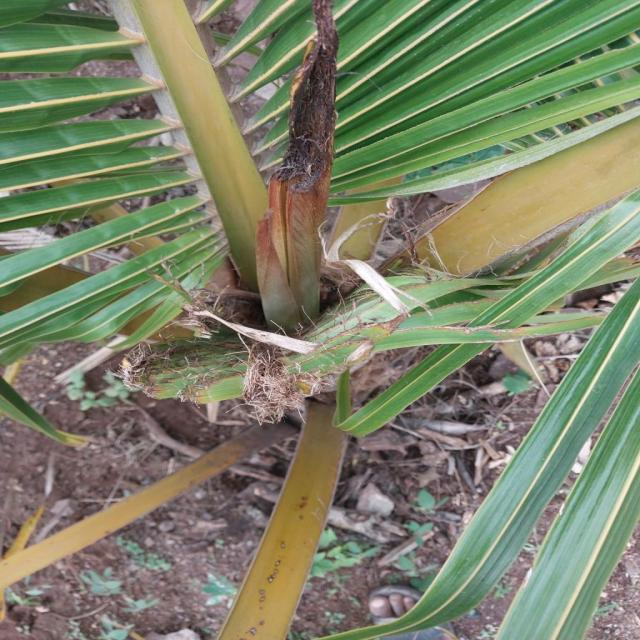bud rot: (255, 1, 335, 331), (120, 315, 323, 420)
